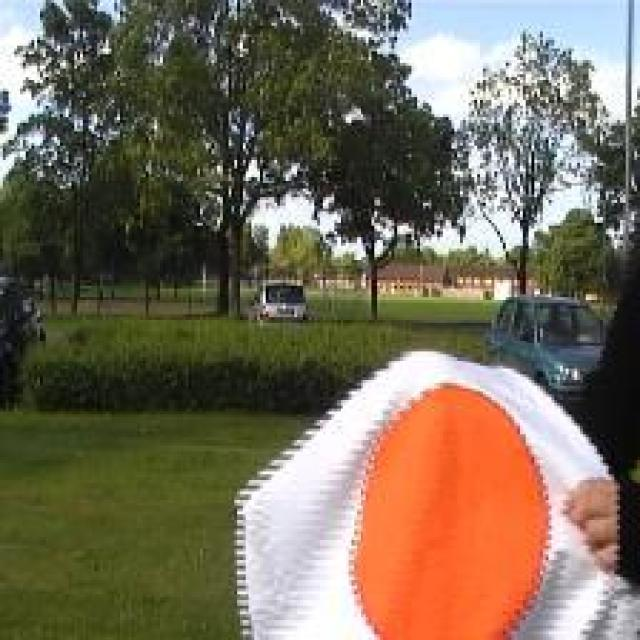other: (340, 378, 550, 633)
